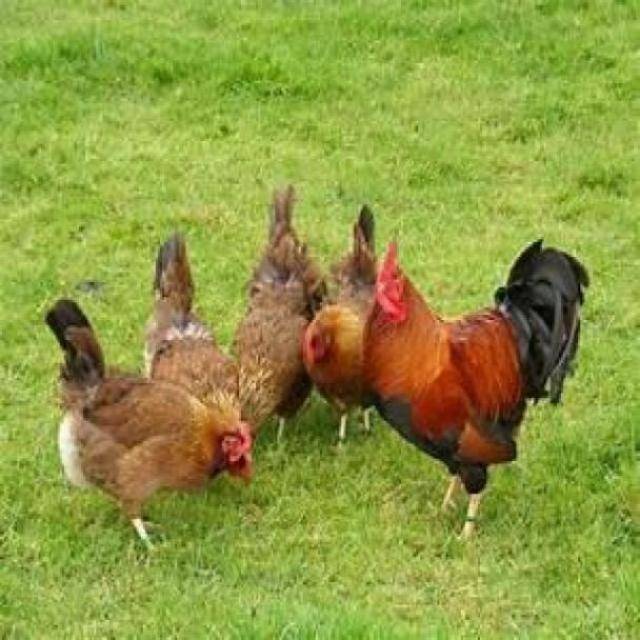Chicken: (365, 237, 589, 539), (45, 297, 250, 552), (145, 229, 252, 479), (226, 187, 329, 444), (303, 204, 380, 444)
